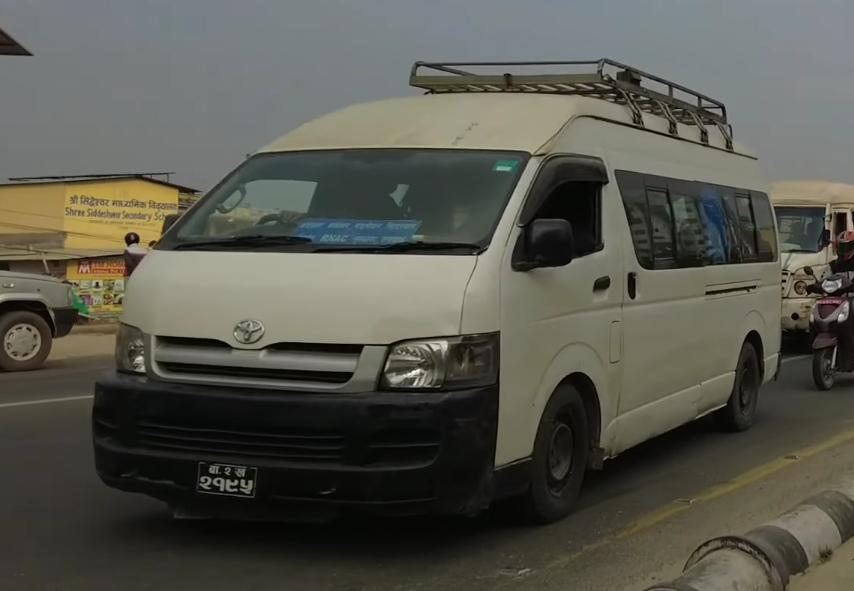micro_bus: (73, 52, 784, 537)
scooter: (796, 262, 854, 394)
